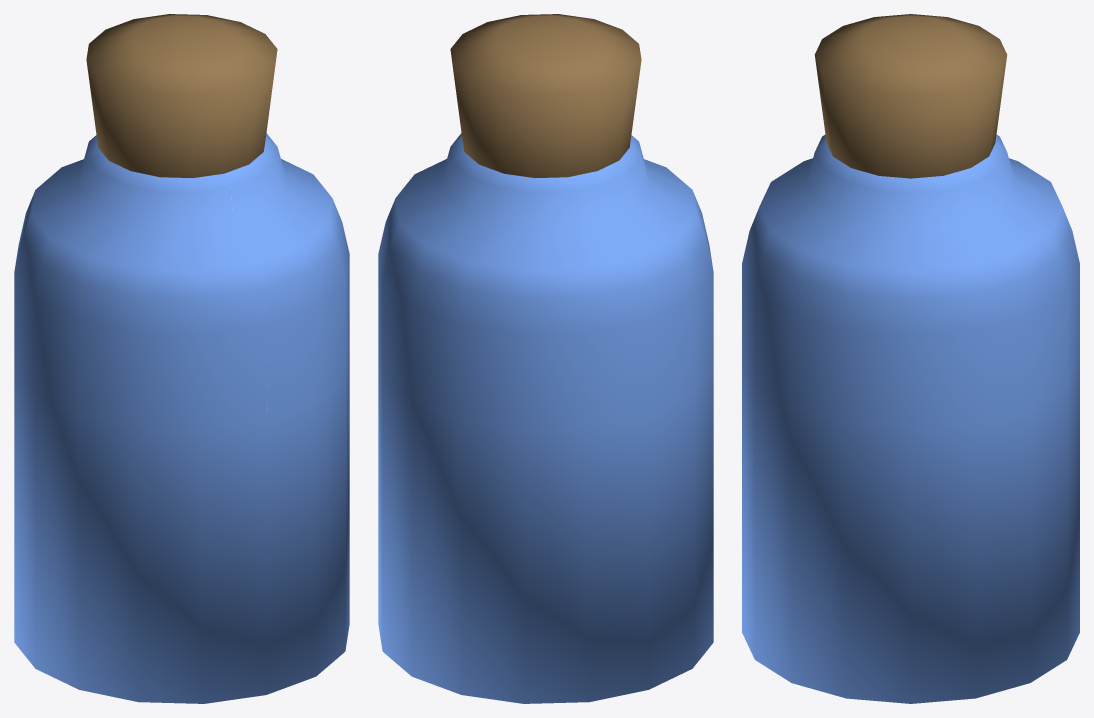
File: HealthPotionBox.fbx
3 views of the same model, side by side, from view 1: azimuth 30°, elevation 25°; view 2: azimuth 150°, elevation 25°; view 3: azimuth 270°, elevation 25° (orthographic).
Visible parts, largest first — view 1: Sphere.006; view 2: Sphere.006; view 3: Sphere.006.
Part boxes in pixels (<box>): Sphere.006: <box>14,14,349,703</box>; Sphere.006: <box>378,14,713,703</box>; Sphere.006: <box>742,14,1079,703</box>.
Size of the model in its own units: 176 by 345 by 176.
